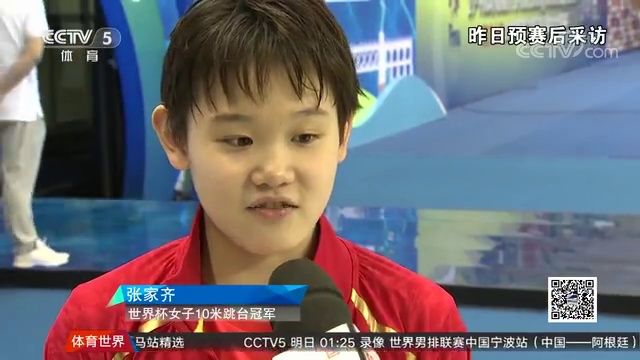face: (189, 66, 338, 252)
